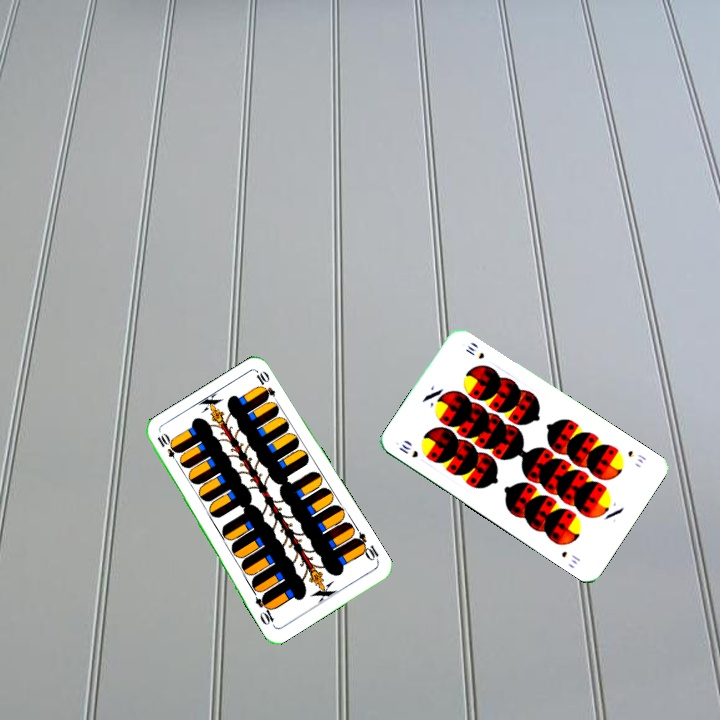E10: (350, 528, 382, 565), (153, 430, 183, 467)
S10: (395, 440, 421, 460), (624, 446, 649, 466)
